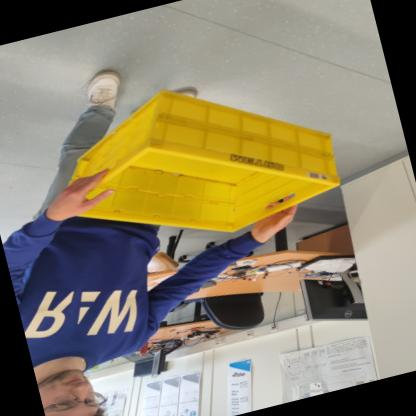box: (20, 47, 365, 278)
